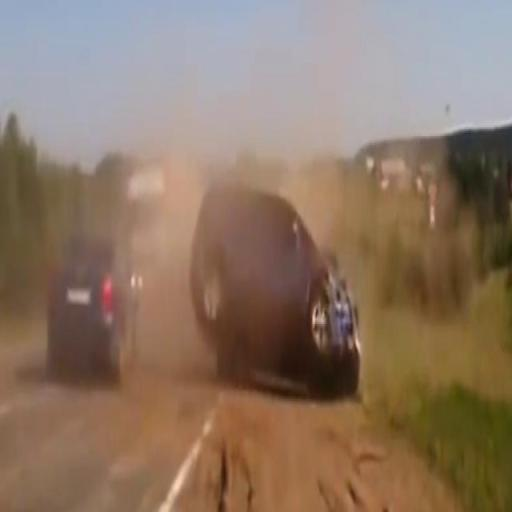小汽车: (40, 228, 143, 384)
小汽车撞小汽车: (192, 188, 364, 398)
